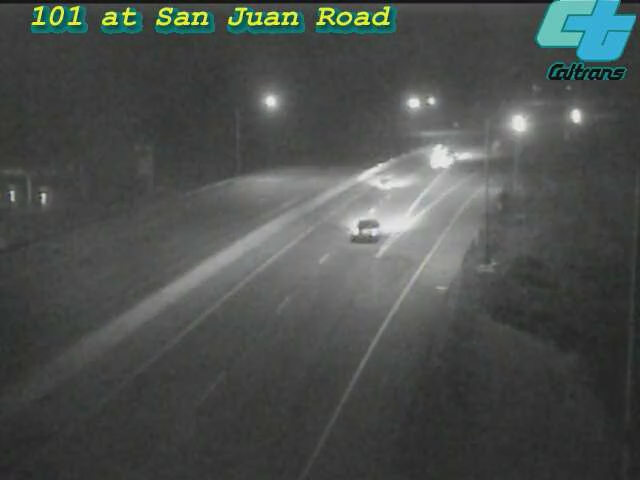vehicle: (343, 141, 423, 221), (328, 189, 408, 269), (493, 97, 543, 147), (551, 90, 601, 140), (418, 131, 468, 181)
